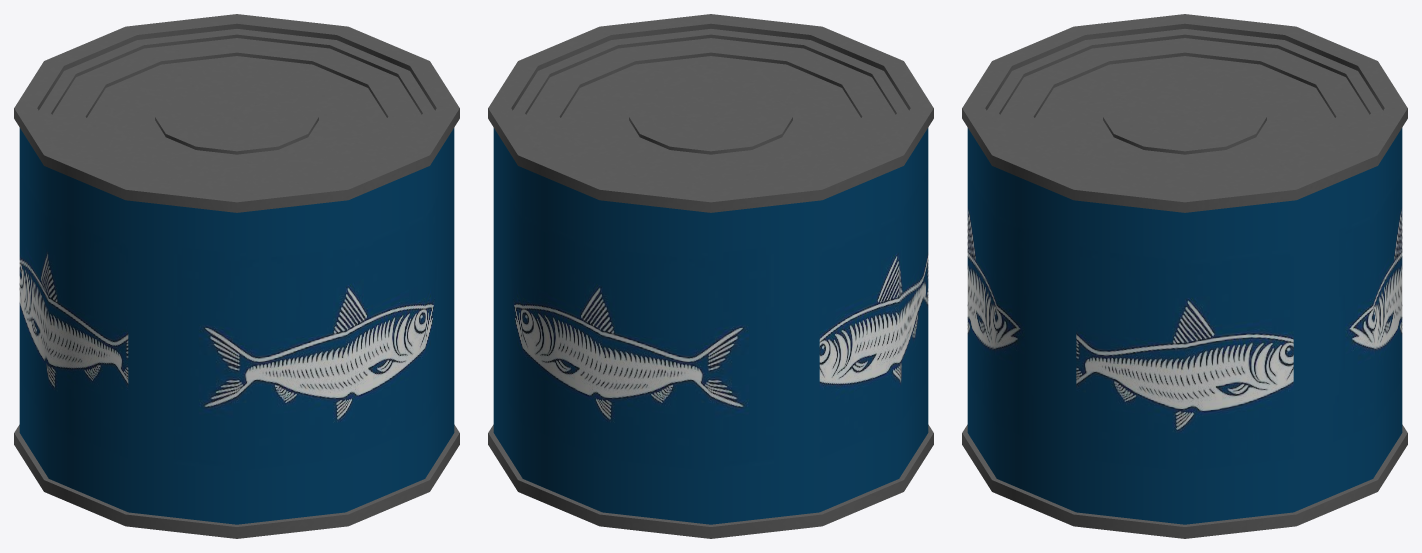
Rendered from large_canned_fish.fbx.
3 renders of one model, left to right at view 1: azimuth 30°, elevation 25°; view 2: azimuth 150°, elevation 25°; view 3: azimuth 270°, elevation 25°, orthographic.
Visible parts, largest first — view 1: large_canned_fish; view 2: large_canned_fish; view 3: large_canned_fish.
Boxes of the visible parts, x1,y1,x2,y2 form: large_canned_fish: (14, 14, 459, 538); large_canned_fish: (488, 14, 933, 538); large_canned_fish: (962, 14, 1407, 538).
Size of the model in its own units: 12 by 10 by 12.
1 material, 1 textured.
